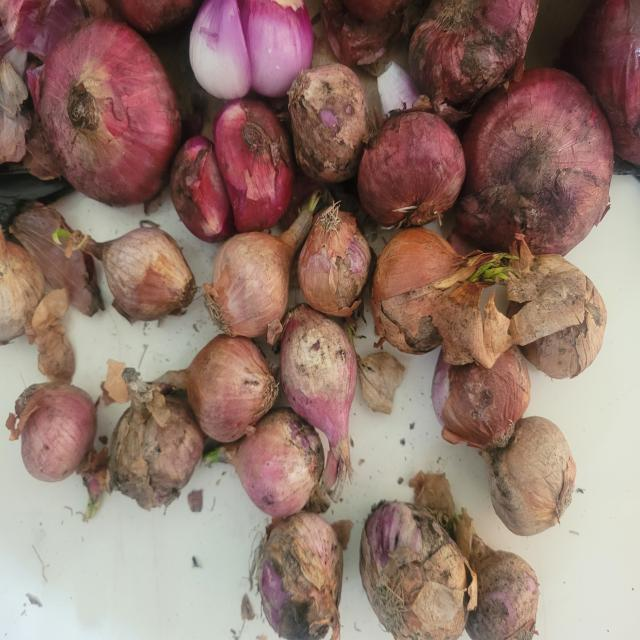mechanical_damage: (164, 112, 295, 241), (174, 2, 328, 102)
